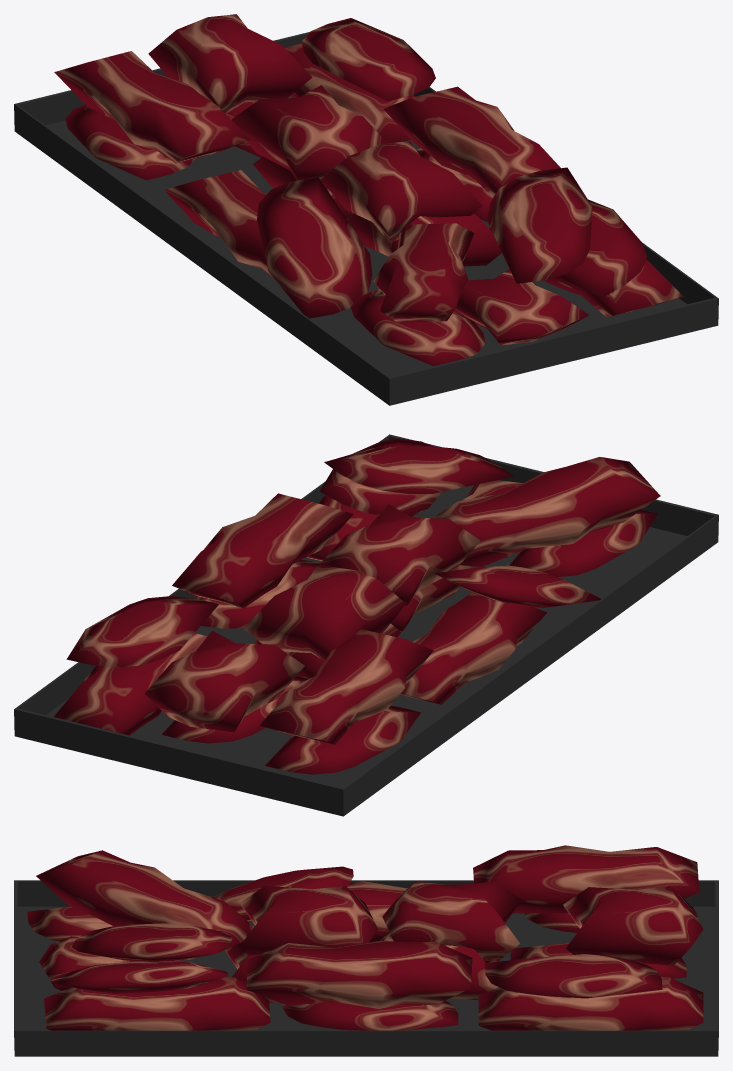
The model's file is tray of bbq.fbx.
The picture shows the model from 3 angles, top to bottom: view 1: azimuth 30°, elevation 25°; view 2: azimuth 150°, elevation 25°; view 3: azimuth 270°, elevation 25°; orthographic projection. The views are drawn at different scales.
Parts seen in each view (by area): view 1: tray.004, BBQ 3.007, BBQ 2.007, BBQ 1.007, BBQ 2.006, BBQ 3.009, BBQ 1.005, BBQ 1.006, BBQ 2.005, BBQ 3.008, BBQ 1.004, BBQ 2.003 (+8 smaller); view 2: tray.004, BBQ 2.005, BBQ 2.006, BBQ 2.007, BBQ 1.007, BBQ 1.006, BBQ 2.003, BBQ 1.005, BBQ 3.008, BBQ 3.009, BBQ 2.002, BBQ 3.002 (+9 smaller); view 3: tray.004, BBQ 2.006, BBQ 2.007, BBQ 2.005, BBQ 2.004, BBQ 2.002, BBQ 1.007, BBQ 1.006, BBQ 1.005, BBQ 3.008, BBQ 3.009, BBQ 3.006 (+9 smaller).
Boxes of the visible parts, x1,y1,x2,y2 form: tray.004: (14, 32, 718, 405); BBQ 3.007: (257, 177, 372, 318); BBQ 2.007: (54, 51, 250, 163); BBQ 1.007: (148, 14, 312, 113); BBQ 2.006: (383, 86, 560, 197); BBQ 3.009: (486, 167, 592, 283); BBQ 1.005: (321, 141, 482, 242); BBQ 1.006: (231, 85, 386, 180); BBQ 2.005: (373, 223, 474, 322); BBQ 3.008: (301, 18, 435, 101); BBQ 1.004: (454, 269, 589, 345); BBQ 2.003: (164, 170, 272, 276); tray.004: (14, 434, 718, 816); BBQ 2.005: (432, 457, 660, 566); BBQ 2.006: (172, 493, 353, 608); BBQ 2.007: (259, 629, 433, 744); BBQ 1.007: (144, 630, 304, 732); BBQ 1.006: (243, 565, 405, 660); BBQ 2.003: (400, 592, 546, 704); BBQ 1.005: (319, 504, 480, 605); BBQ 3.008: (66, 596, 218, 667); BBQ 3.009: (324, 446, 513, 493); BBQ 2.002: (54, 633, 207, 735); BBQ 3.002: (265, 705, 420, 774); tray.004: (14, 880, 718, 1056); BBQ 2.006: (246, 941, 472, 1008); BBQ 2.007: (473, 845, 699, 913); BBQ 2.005: (36, 850, 253, 952); BBQ 2.004: (44, 977, 270, 1030); BBQ 2.002: (478, 977, 703, 1030); BBQ 1.007: (563, 886, 703, 965); BBQ 1.006: (382, 881, 521, 961); BBQ 1.005: (239, 885, 378, 955); BBQ 3.008: (484, 954, 662, 998); BBQ 3.009: (72, 923, 232, 961); BBQ 3.006: (51, 960, 228, 993).
Bounding box in the file's own units: 98.83 × 15.6 × 50.04.
